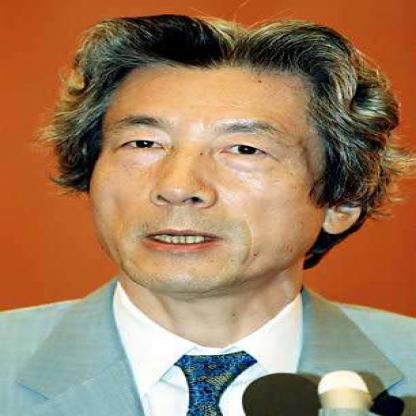face: (80, 30, 342, 302)
